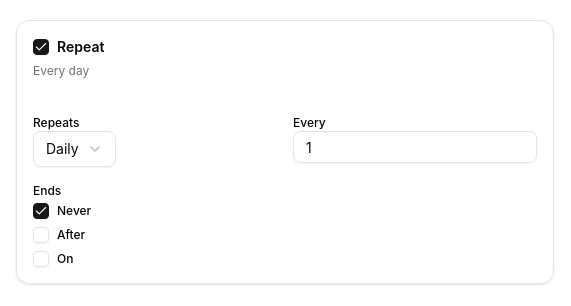
Scenario: RecurrenceEditor › 🖥️ UI State Reflects Data Correctly › should show count input only when count end type is selected
The width and height of the screenshot is (571, 306).
Note: Select "After"
Click the checkbox named "After" next to "After" at {"x": 41, "y": 235}, box [33, 227, 49, 243]
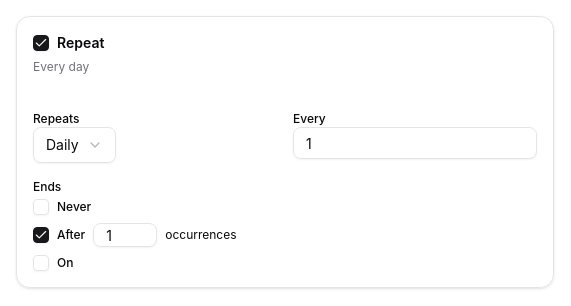
Now the number field with test id "count-input" is shown, box [93, 223, 157, 247]
Note: Select "Never" again
Click the checkbox named "Never" next to "Never" at {"x": 41, "y": 207}, box [33, 199, 49, 215]
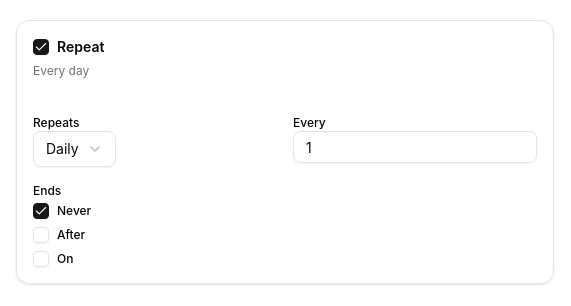
Now the number field with test id "count-input" is gone
